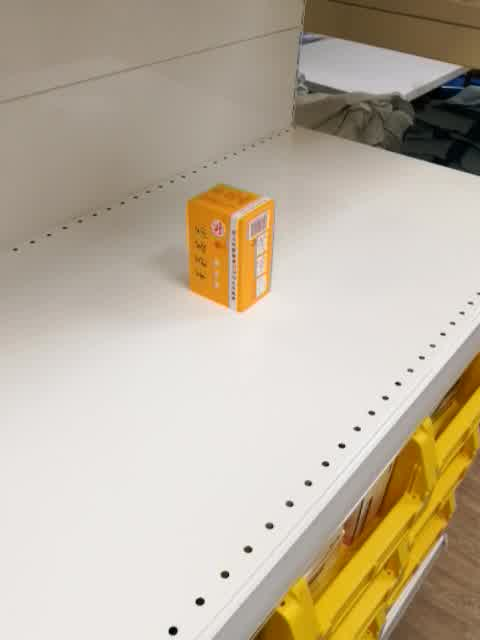jasminetea: (186, 183, 276, 313)
